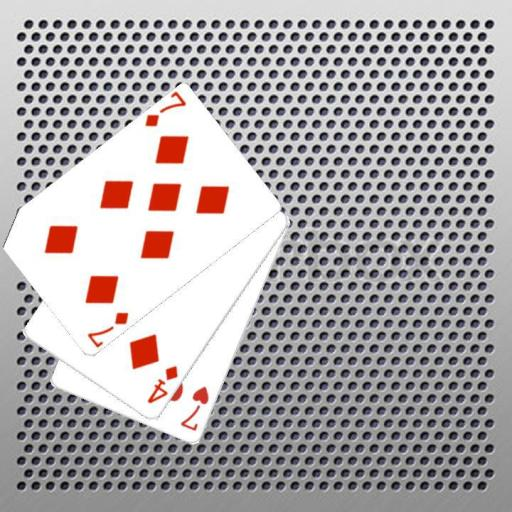4D: (144, 363, 180, 406)
7D: (84, 309, 131, 349), (142, 91, 188, 130)
7H: (177, 383, 211, 433)
